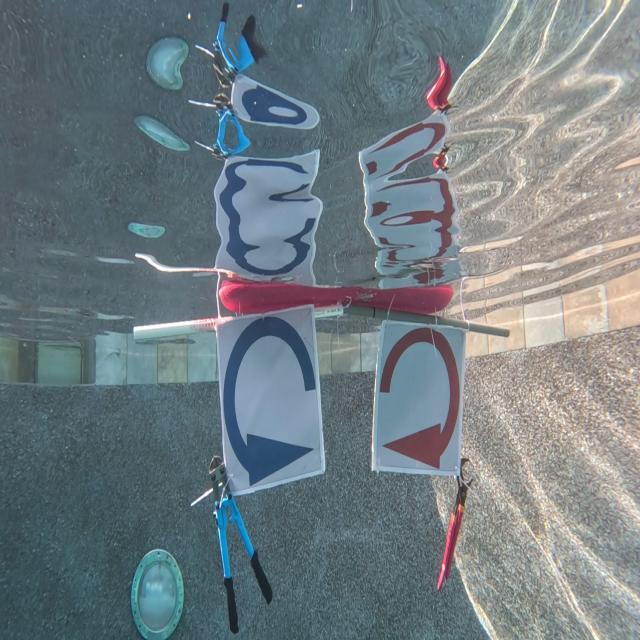blue_side: (216, 317, 319, 482)
red_side: (373, 319, 462, 478)
